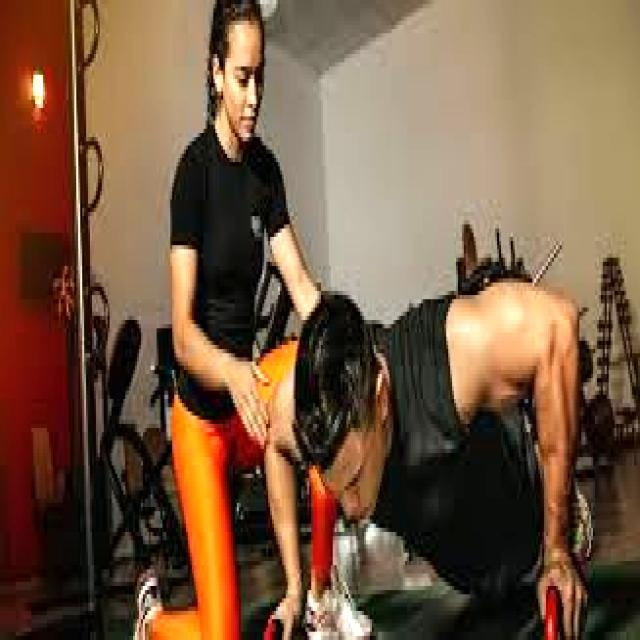face: (321, 370, 389, 519), (214, 21, 264, 153)
lower-wear: (151, 399, 264, 639)
top-wear: (171, 129, 290, 422)
